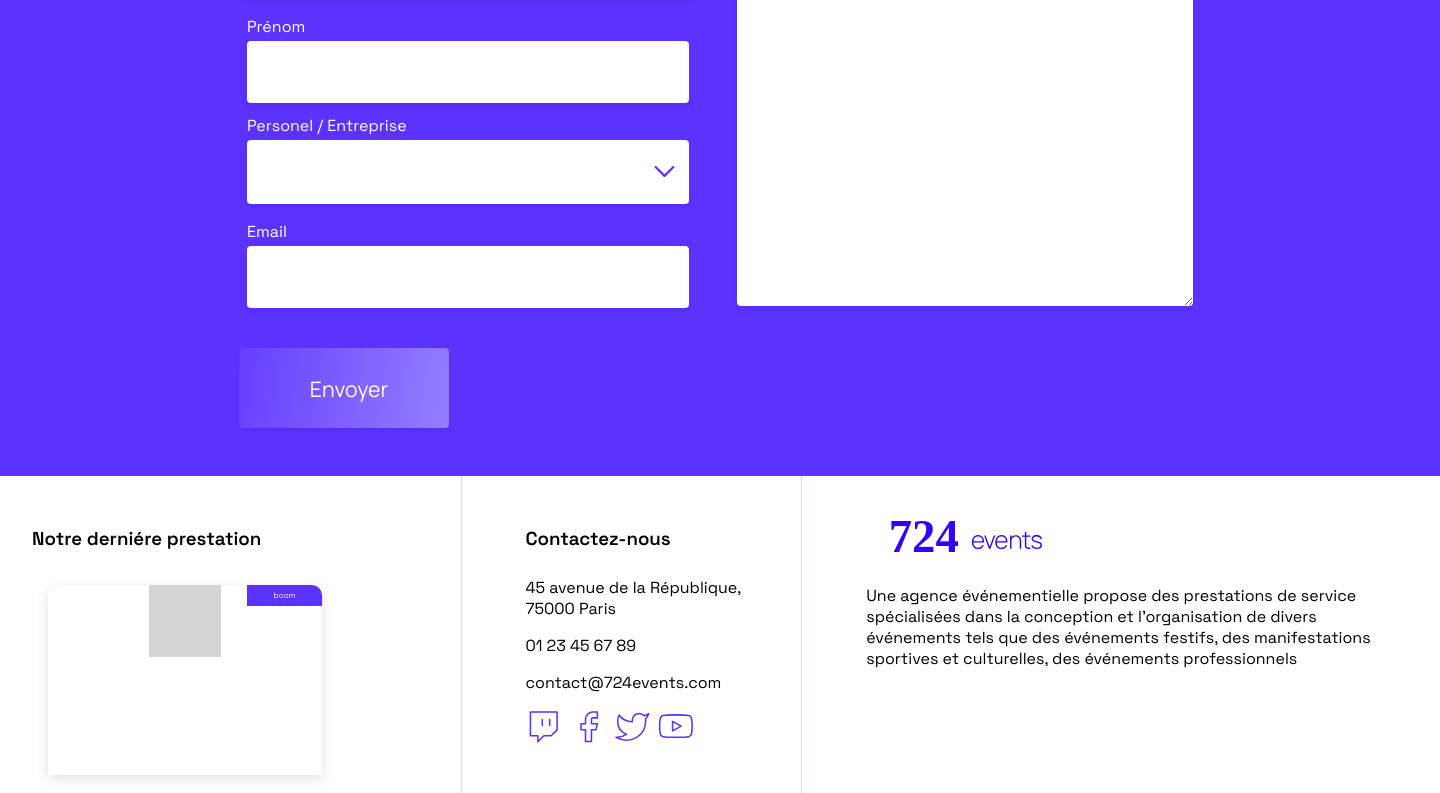
it: When Form is created › and a click is triggered on the submit button › the success message is displayed
(page scrolled)
Click the button "Envoyer" at (344, 388), box [239, 348, 449, 428]
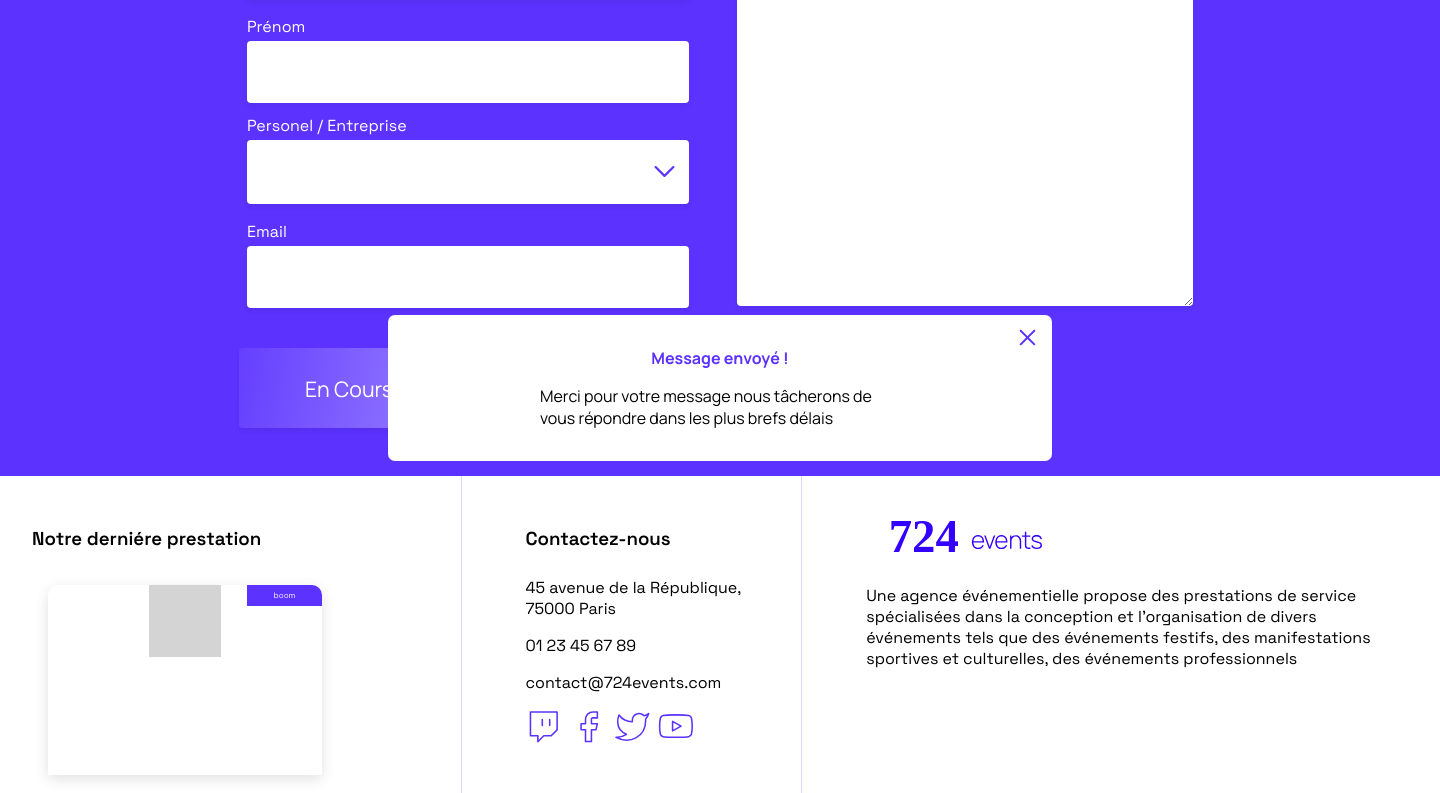
Now the text "Message envoyé !" is shown, box [651, 347, 789, 369]
